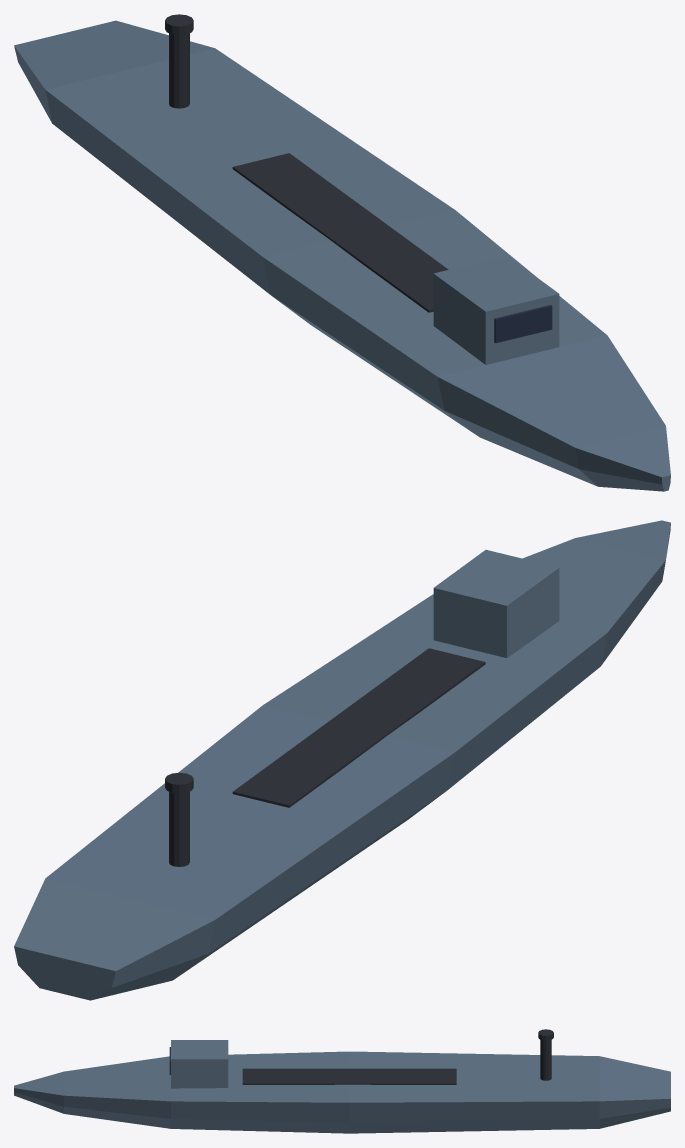
The model's file is sub_hull.glb.
3 views of the same model, one above another, from view 1: azimuth 30°, elevation 25°; view 2: azimuth 150°, elevation 25°; view 3: azimuth 270°, elevation 25° (orthographic). The views are drawn at different scales.
Visible parts, largest first — view 1: sub_hull; view 2: sub_hull; view 3: sub_hull.
Boxes of the visible parts, <box> form: sub_hull: <box>14,14,670,491</box>; sub_hull: <box>14,520,670,1000</box>; sub_hull: <box>14,1029,670,1133</box>.
Bounding box in the file's own units: 3.4 × 2.73 × 18.4.
